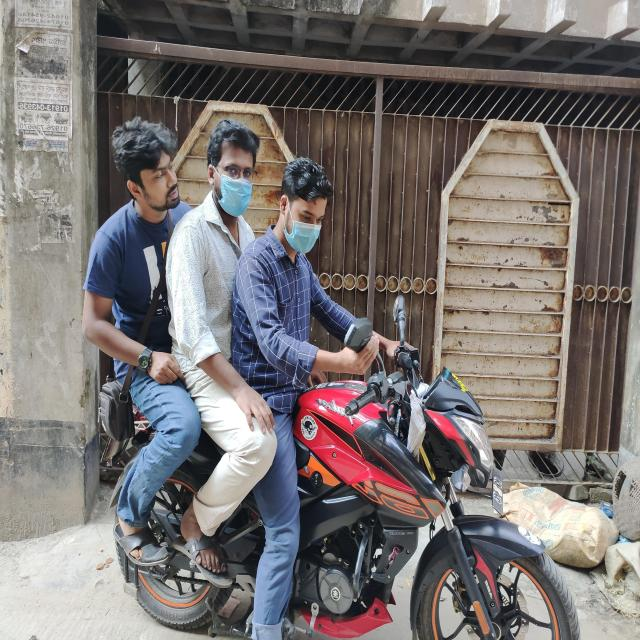triple_rider: (82, 117, 580, 640)
